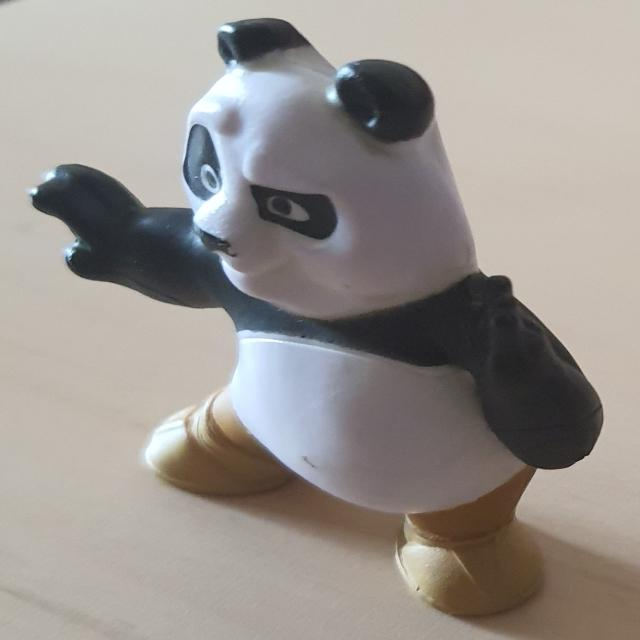Panda: (28, 16, 604, 617)
